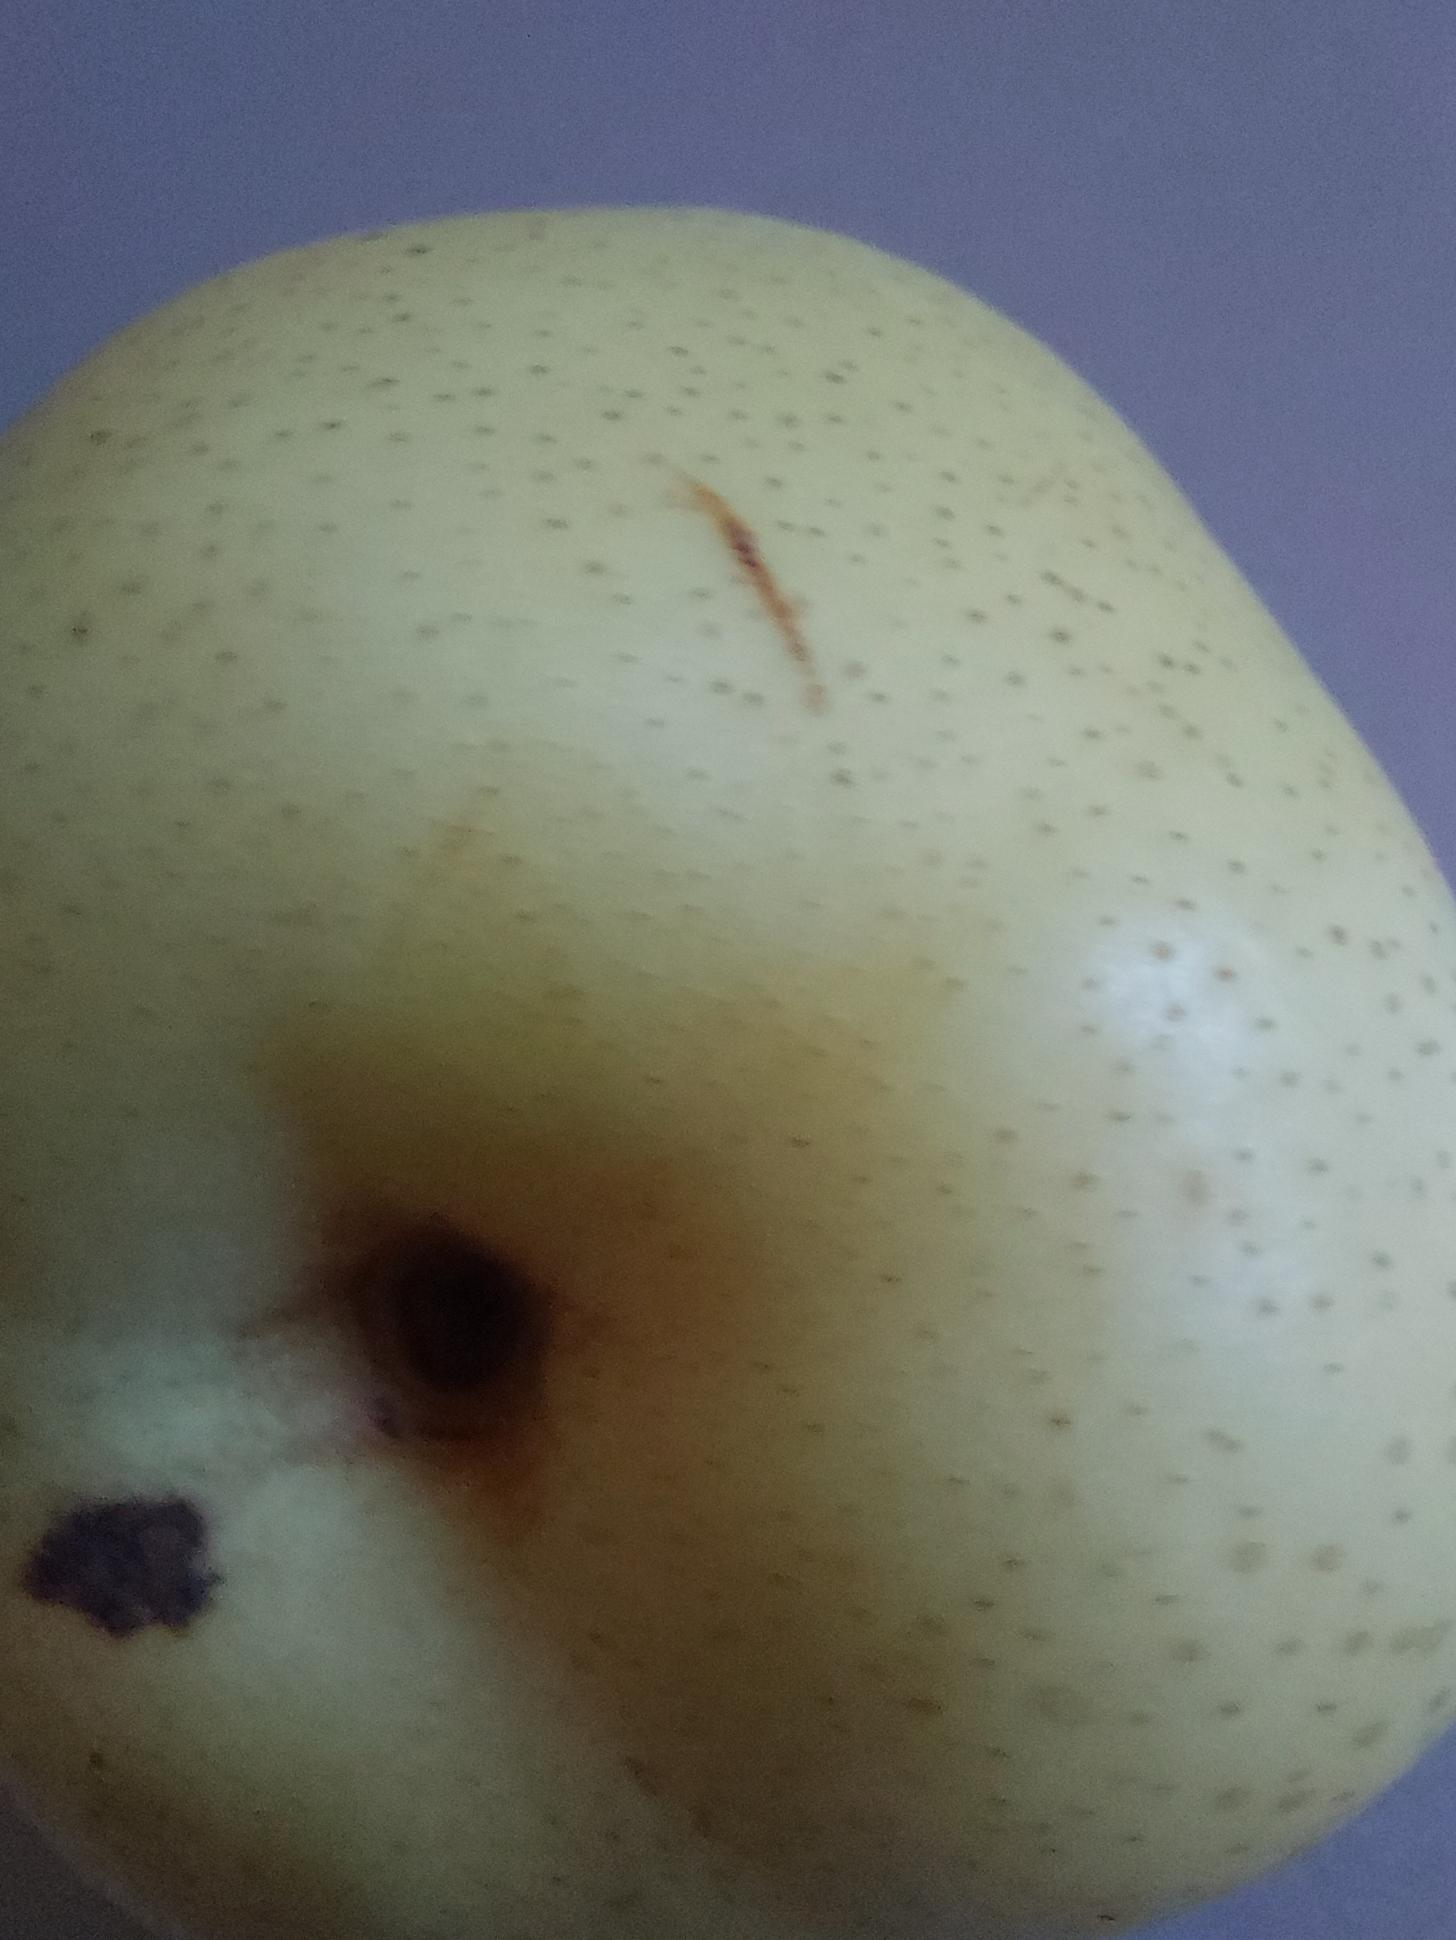Good Pear: (0, 167, 1456, 1940)
